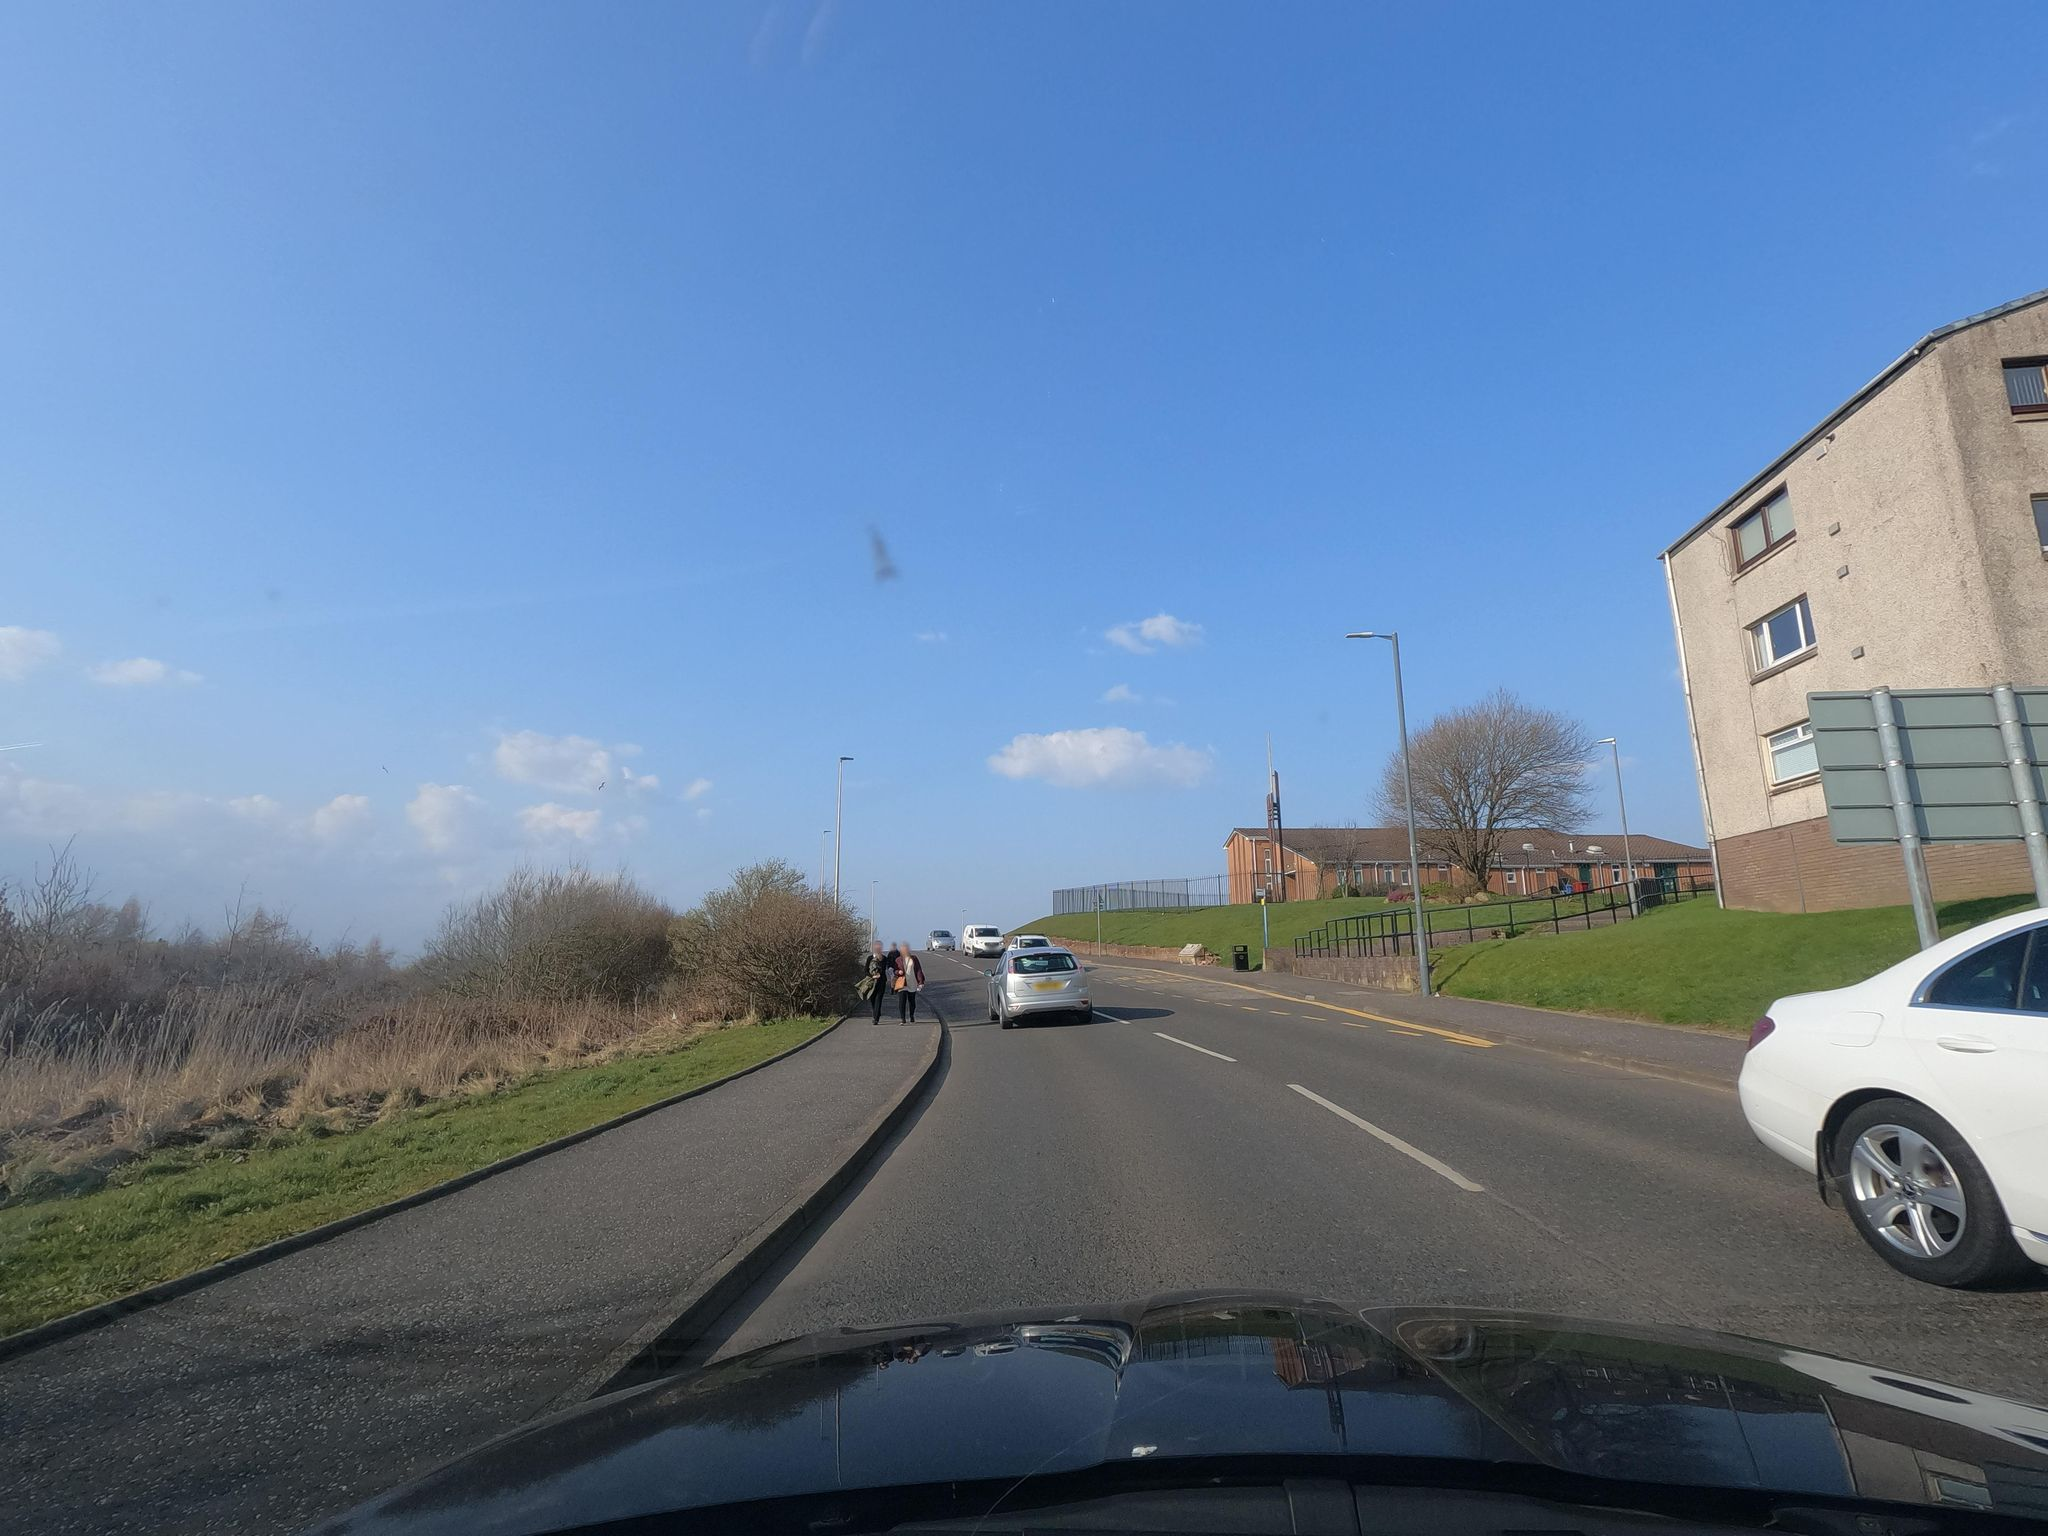car: (1735, 904, 2048, 1291), (984, 945, 1092, 1028), (961, 925, 1006, 958), (1006, 933, 1051, 950), (926, 929, 955, 950)
